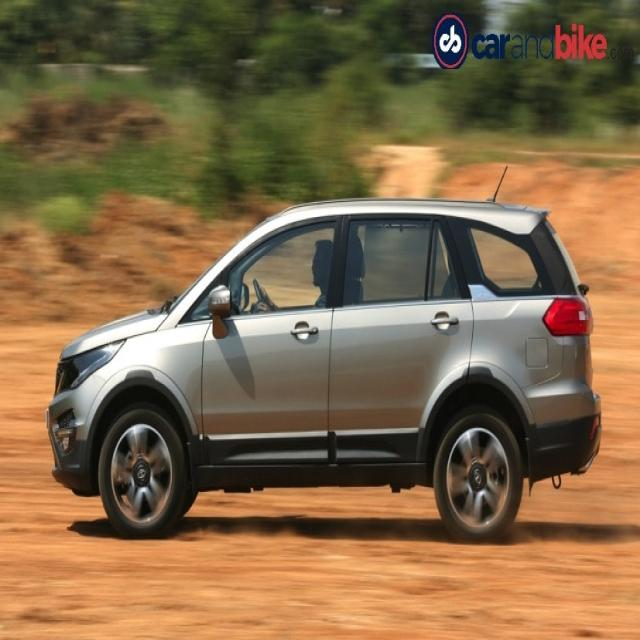Car: (46, 173, 600, 552)
